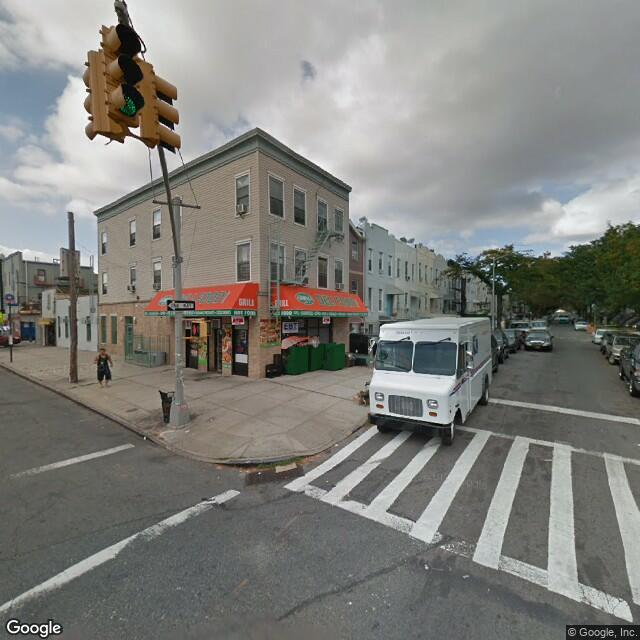litter: (275, 466, 297, 473), (250, 469, 263, 475), (421, 562, 430, 570), (462, 571, 469, 579), (141, 435, 150, 441), (183, 428, 190, 434), (333, 440, 340, 445)
